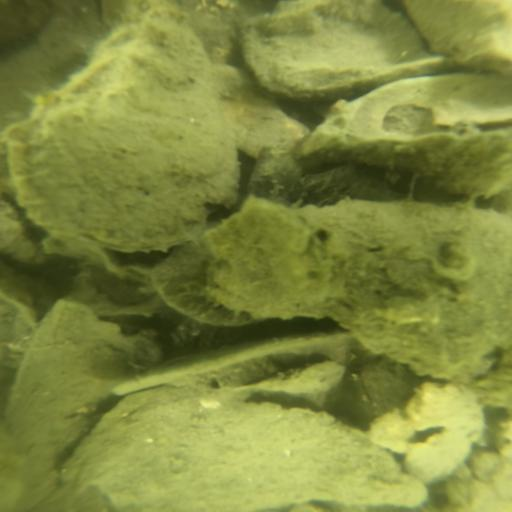Oyster-Closed: (205, 201, 512, 383), (33, 24, 235, 255), (73, 394, 437, 512), (1, 298, 178, 506), (304, 72, 512, 153)
